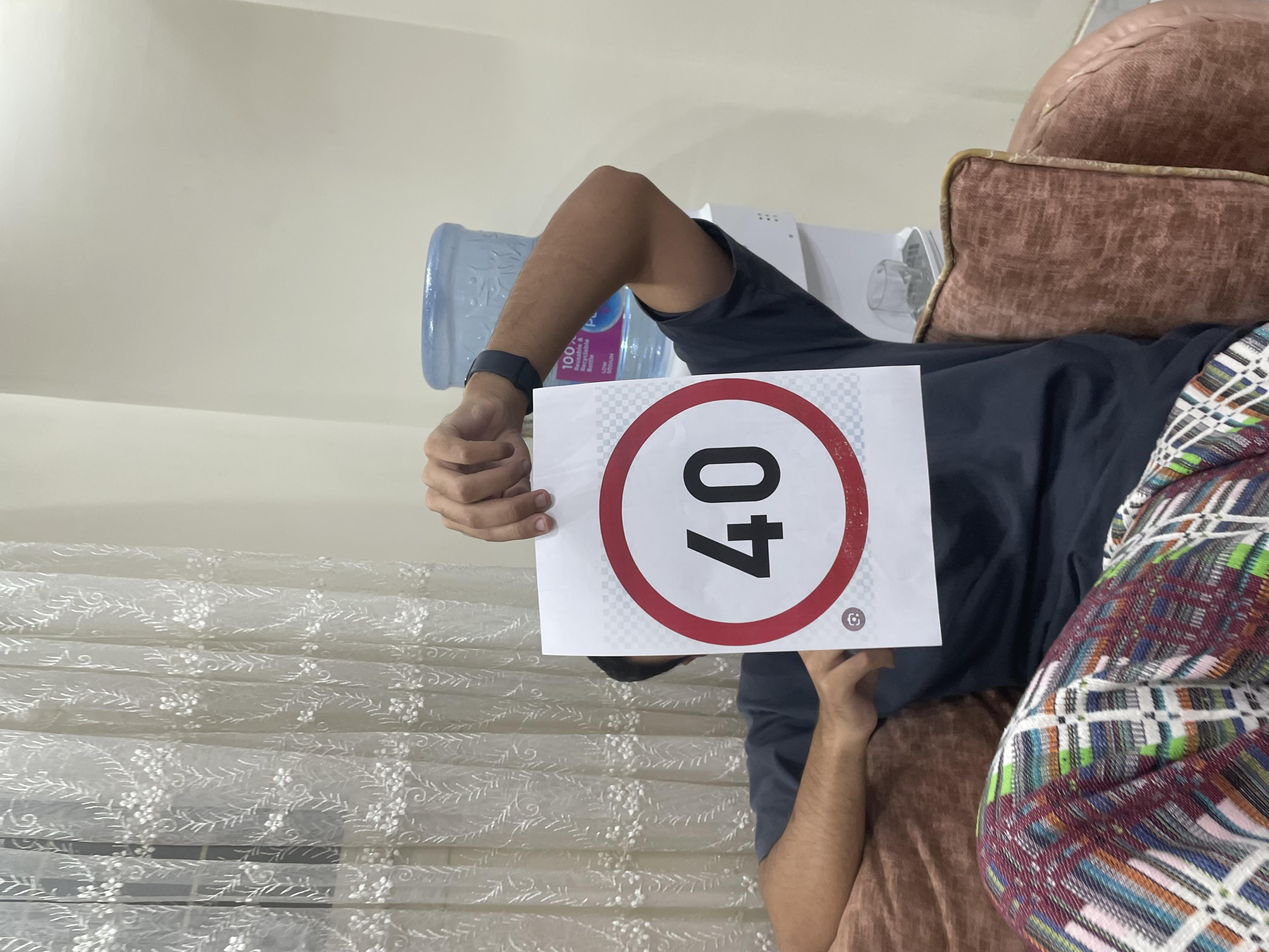40-Speed: (416, 444, 761, 651)
